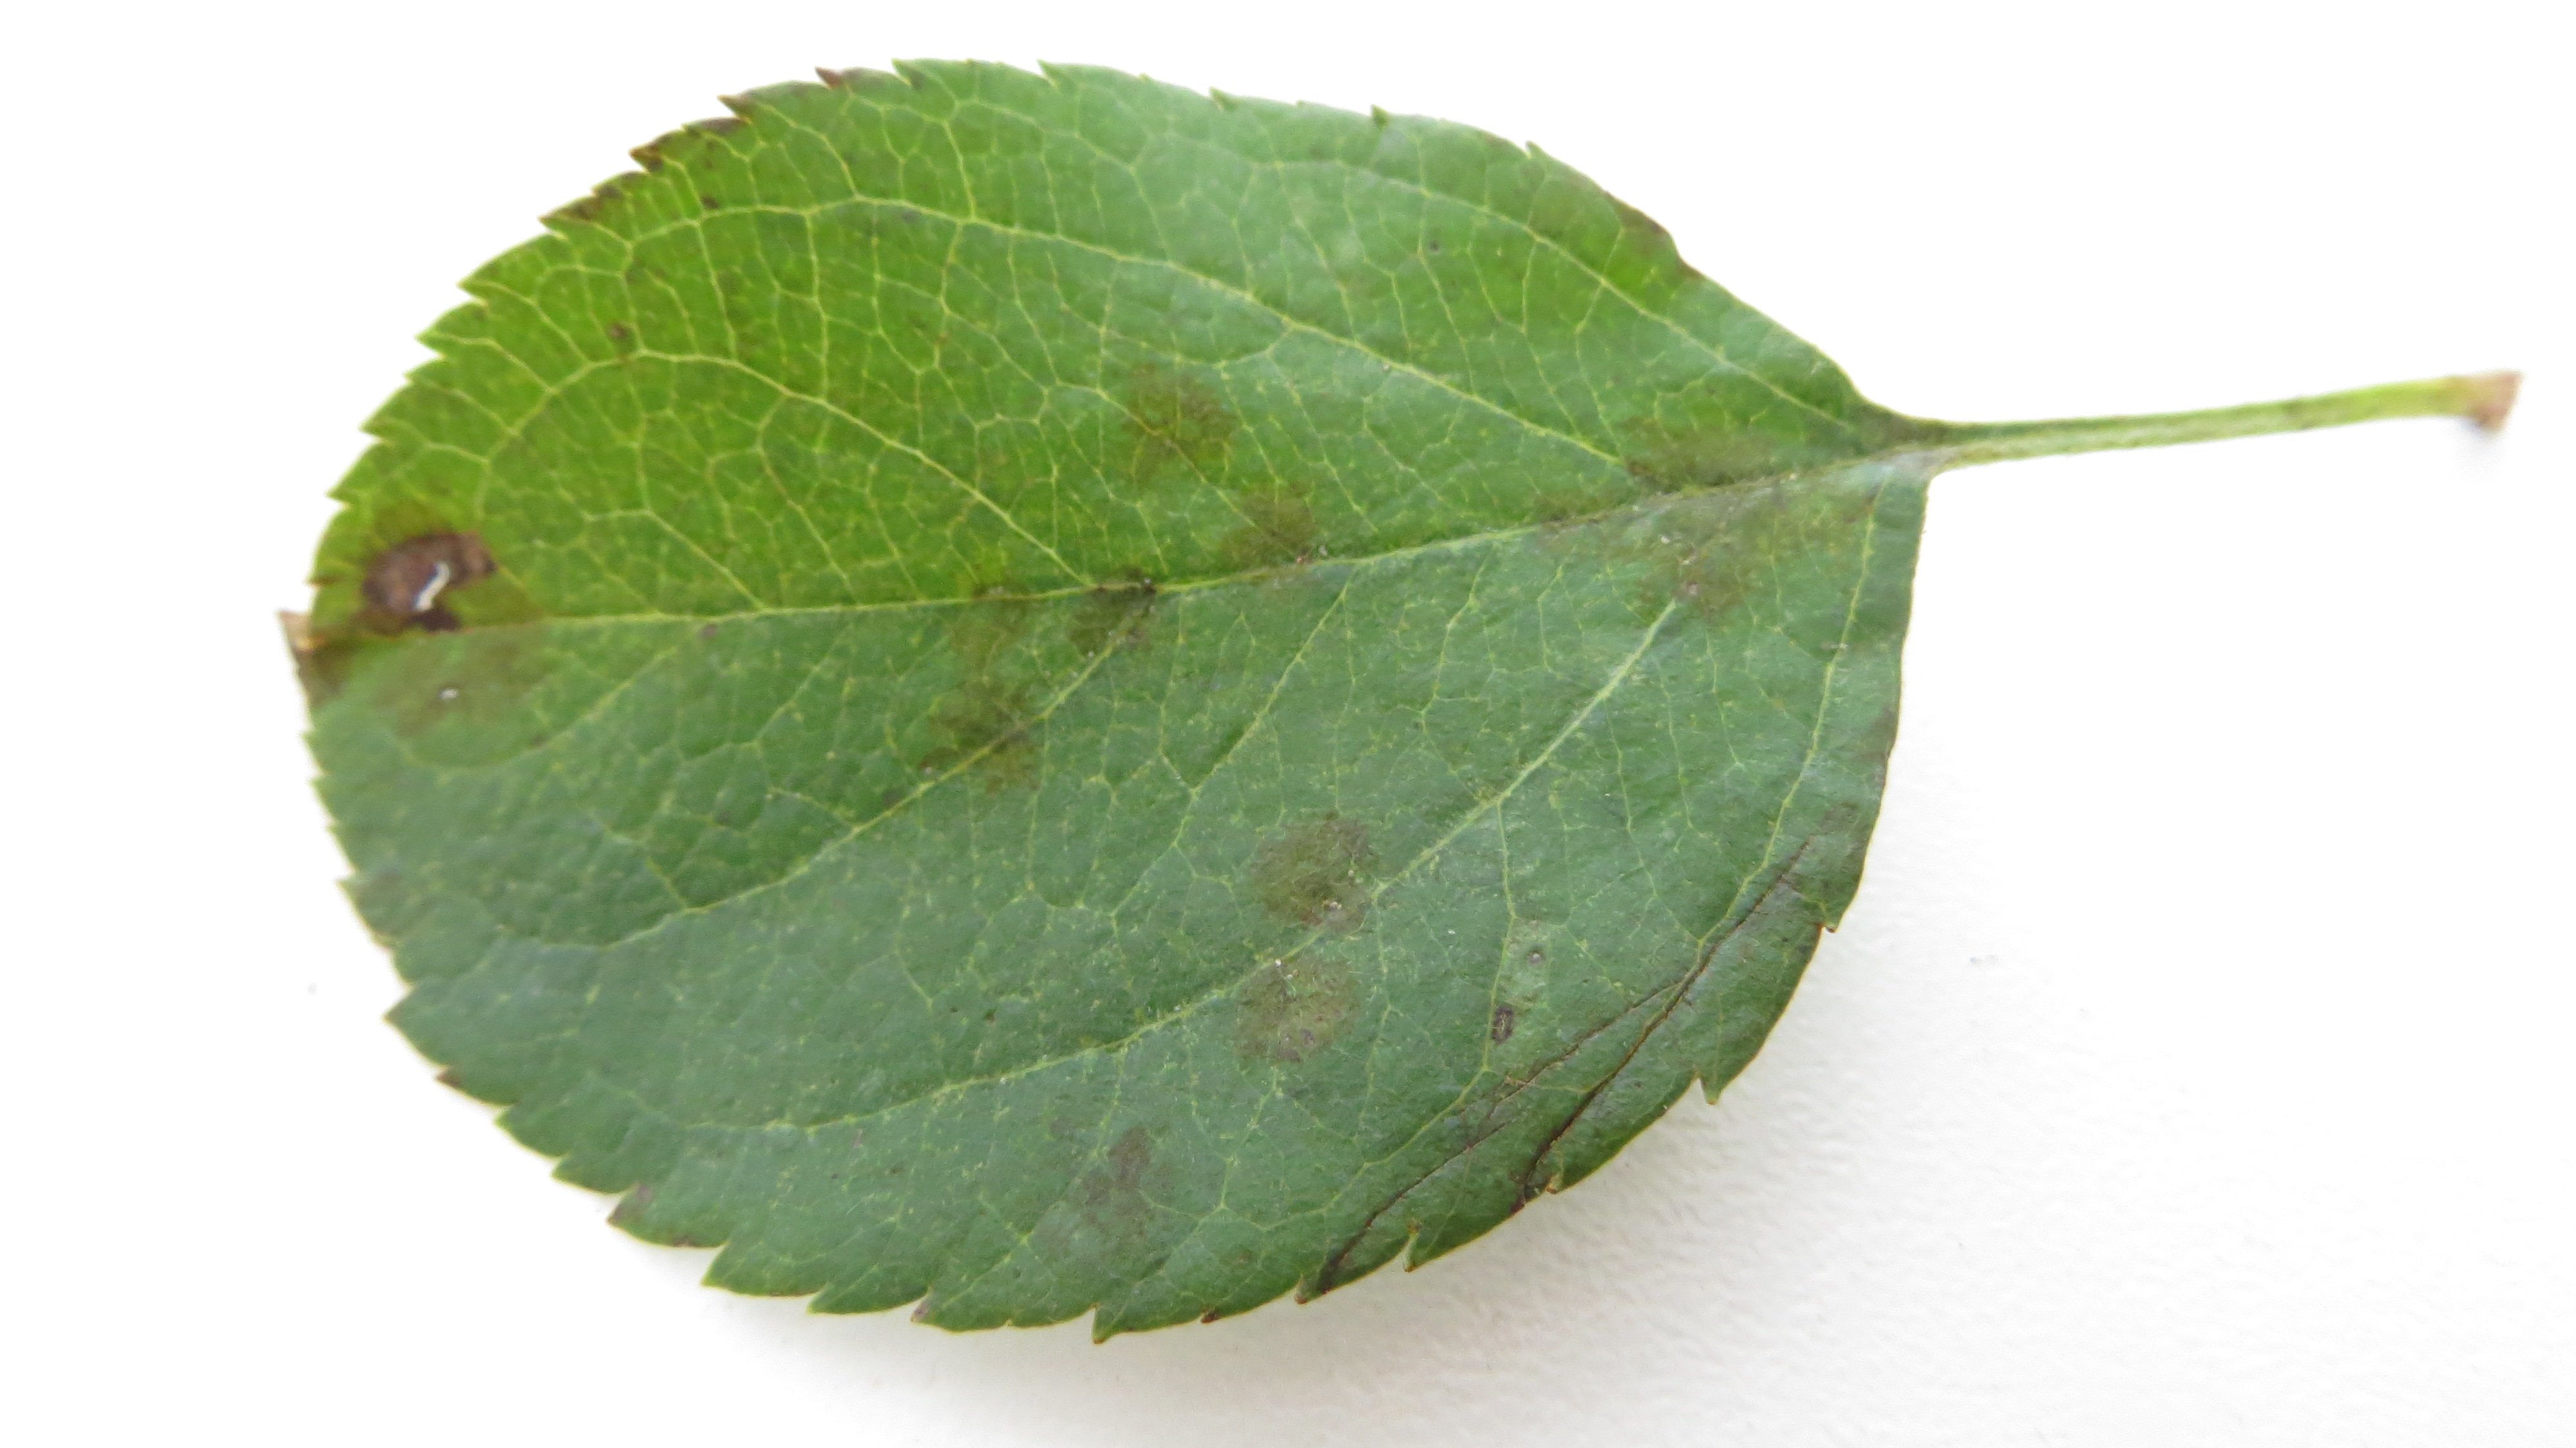sarna: (1644, 416, 1812, 628), (1208, 951, 1382, 1083), (366, 506, 538, 639), (899, 678, 1063, 811), (1113, 343, 1244, 510), (387, 639, 554, 756), (1237, 813, 1398, 933), (1805, 398, 1934, 542), (1507, 466, 1652, 589), (1037, 1112, 1166, 1244), (1060, 556, 1175, 683), (288, 597, 398, 719), (1210, 480, 1325, 593), (943, 566, 1049, 678), (628, 113, 766, 184), (1840, 692, 1923, 784), (538, 170, 635, 246), (1463, 986, 1541, 1067), (812, 50, 886, 113), (1513, 913, 1575, 984)
